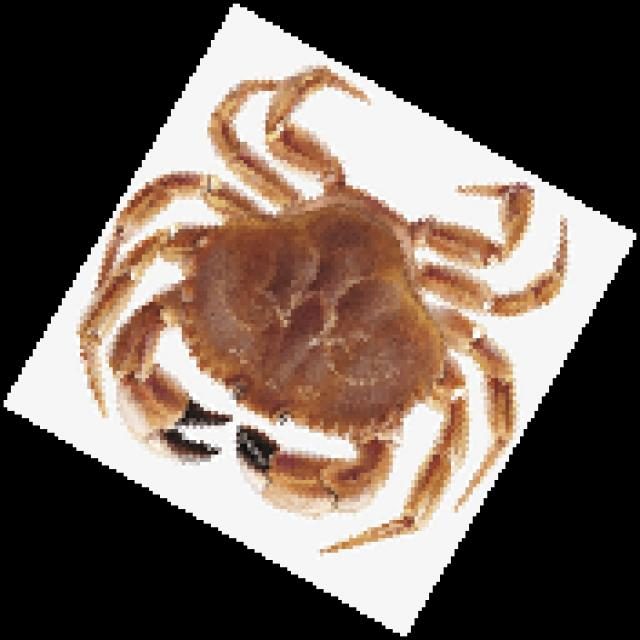Native Jonah crab: (76, 65, 564, 549)
